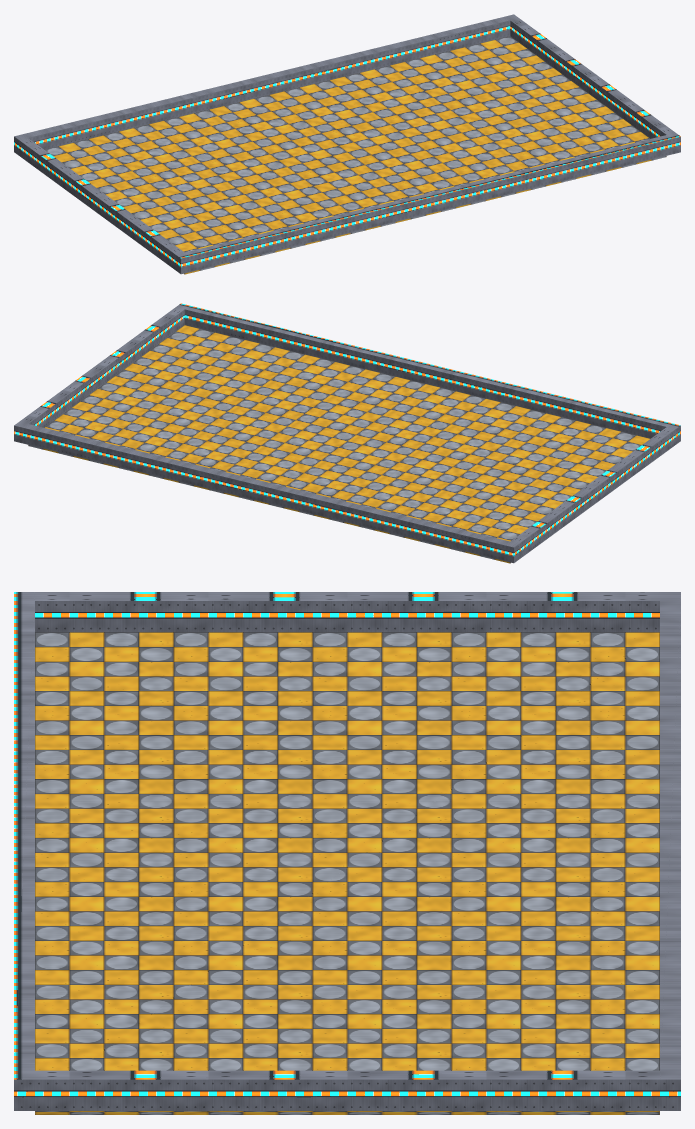
The model's file is arena.glb.
The picture shows the model from 3 angles, top to bottom: view 1: azimuth 30°, elevation 25°; view 2: azimuth 150°, elevation 25°; view 3: azimuth 270°, elevation 25°; orthographic projection. The views are drawn at different scales.
Visible parts, largest first — view 1: ArenaFloor, RailSouth, RailNorth, RailWest, RailEast; view 2: ArenaFloor, RailNorth, RailSouth, RailWest, RailEast; view 3: ArenaFloor, RailEast, RailWest, RailNorth, RailSouth.
Part boxes in pixels (x1=…): ArenaFloor: x1=44, y1=36, x2=666, y2=274; RailSouth: x1=175, y1=132, x2=680, y2=274; RailNorth: x1=14, y1=14, x2=518, y2=155; RailWest: x1=19, y1=138, x2=184, y2=269; RailEast: x1=510, y1=18, x2=675, y2=138; ArenaFloor: x1=28, y1=325, x2=650, y2=563; RailNorth: x1=14, y1=421, x2=519, y2=563; RailSouth: x1=176, y1=303, x2=680, y2=444; RailWest: x1=510, y1=427, x2=675, y2=558; RailEast: x1=19, y1=307, x2=184, y2=427; ArenaFloor: x1=35, y1=632, x2=659, y2=1114; RailEast: x1=35, y1=1070, x2=659, y2=1110; RailWest: x1=35, y1=592, x2=659, y2=632; RailNorth: x1=660, y1=592, x2=680, y2=1110; RailSouth: x1=14, y1=592, x2=34, y2=1110.
Size of the model in its own units: 16.6 by 0.7 by 9.6.
Materials: 2 (2 with a texture image).
